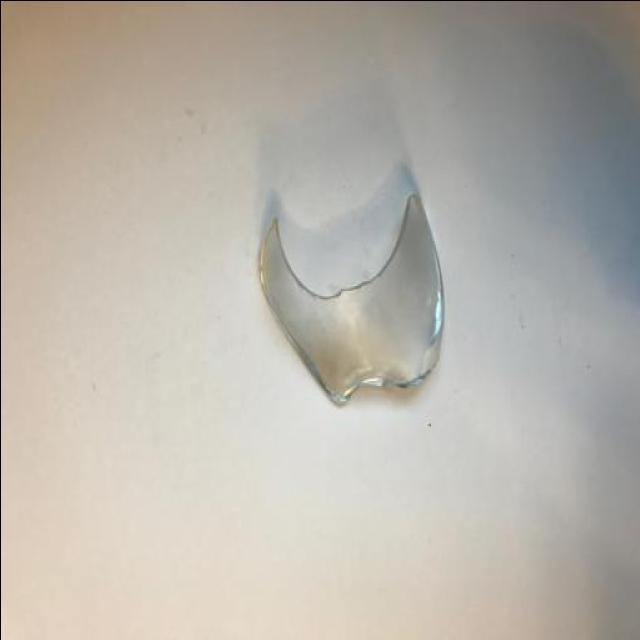glass: (252, 174, 483, 428)
